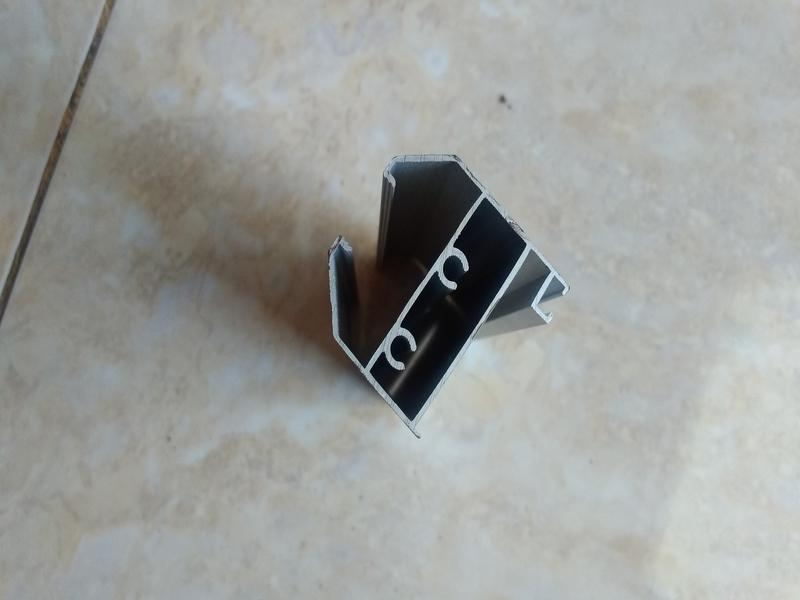Aluminium_3: (274, 129, 595, 451)
